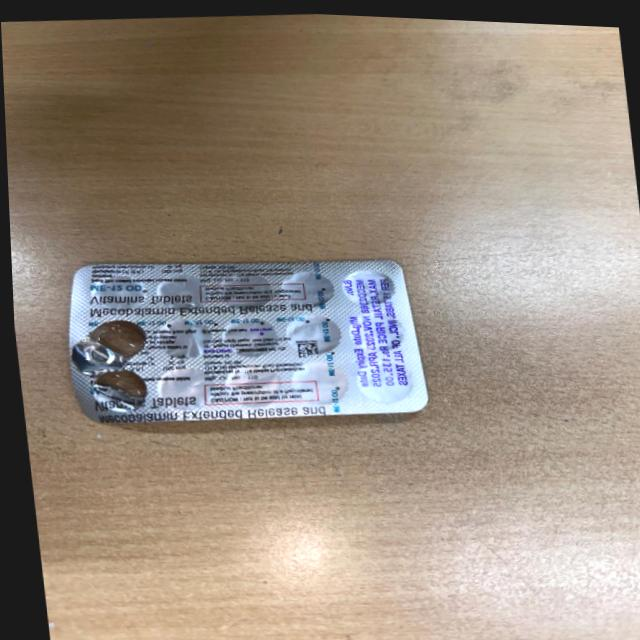medicine: (46, 243, 450, 433)
